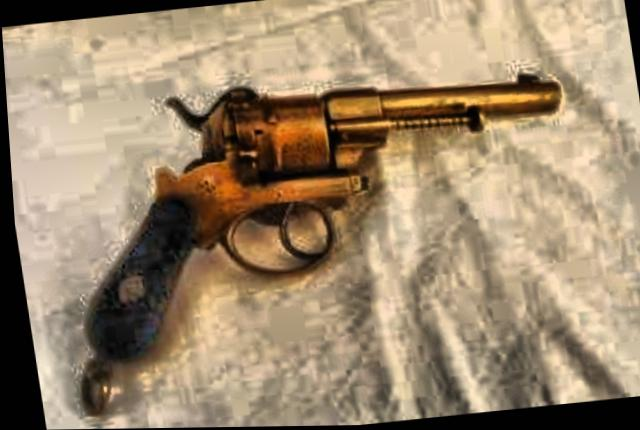pistol: (43, 50, 588, 366)
